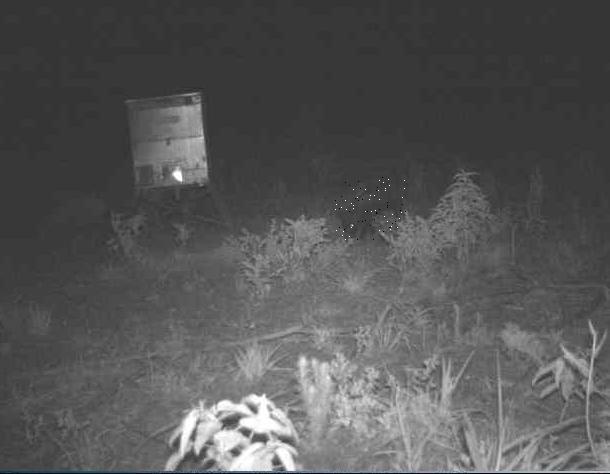Hog: (335, 177, 407, 240)
